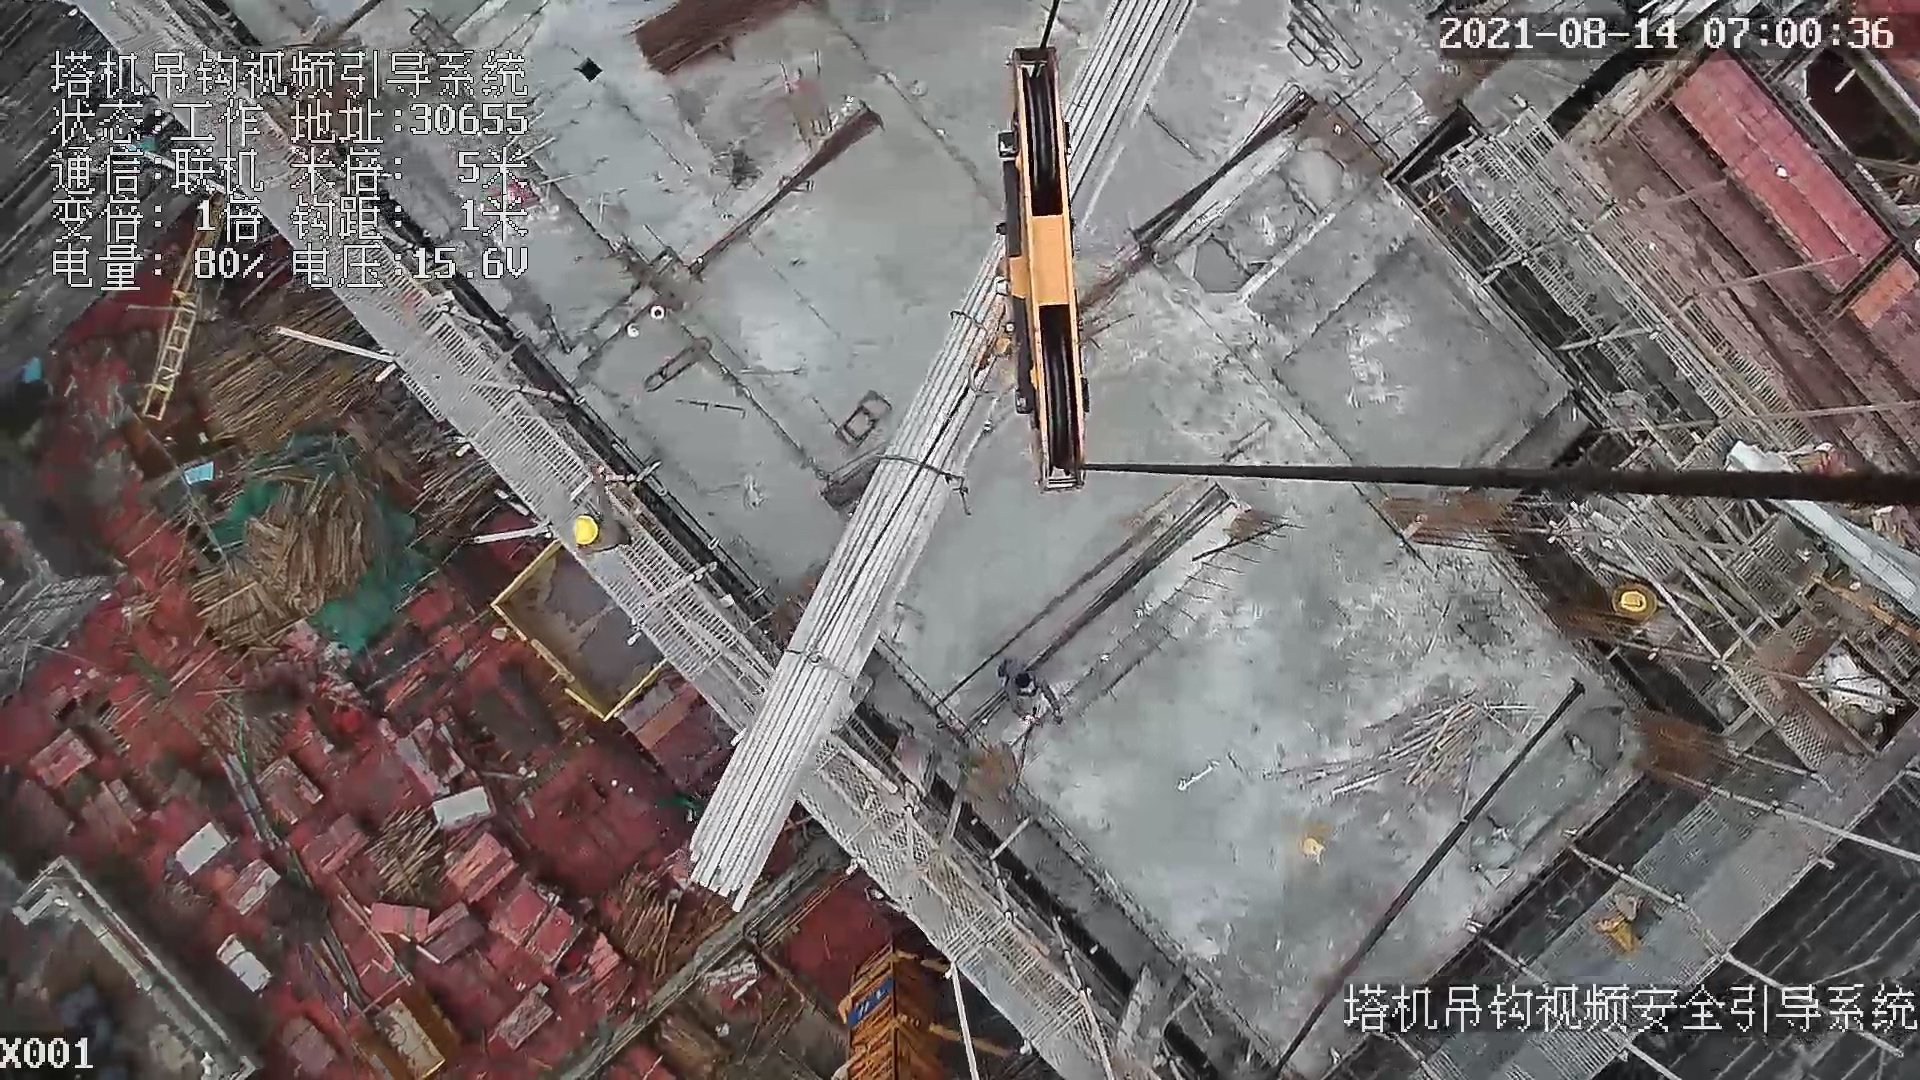helmet: (565, 506, 610, 546)
hook: (951, 37, 1095, 499)
person: (563, 465, 627, 556), (994, 658, 1068, 728)
